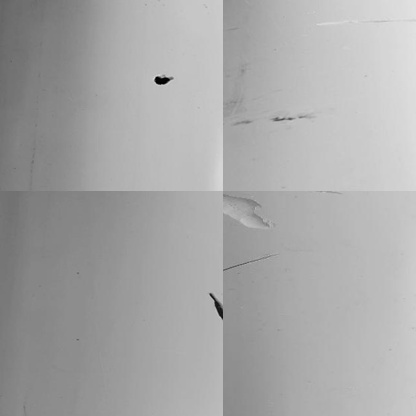kongdong: (207, 290, 222, 320), (156, 72, 174, 88)
sunshang: (222, 193, 270, 230)
